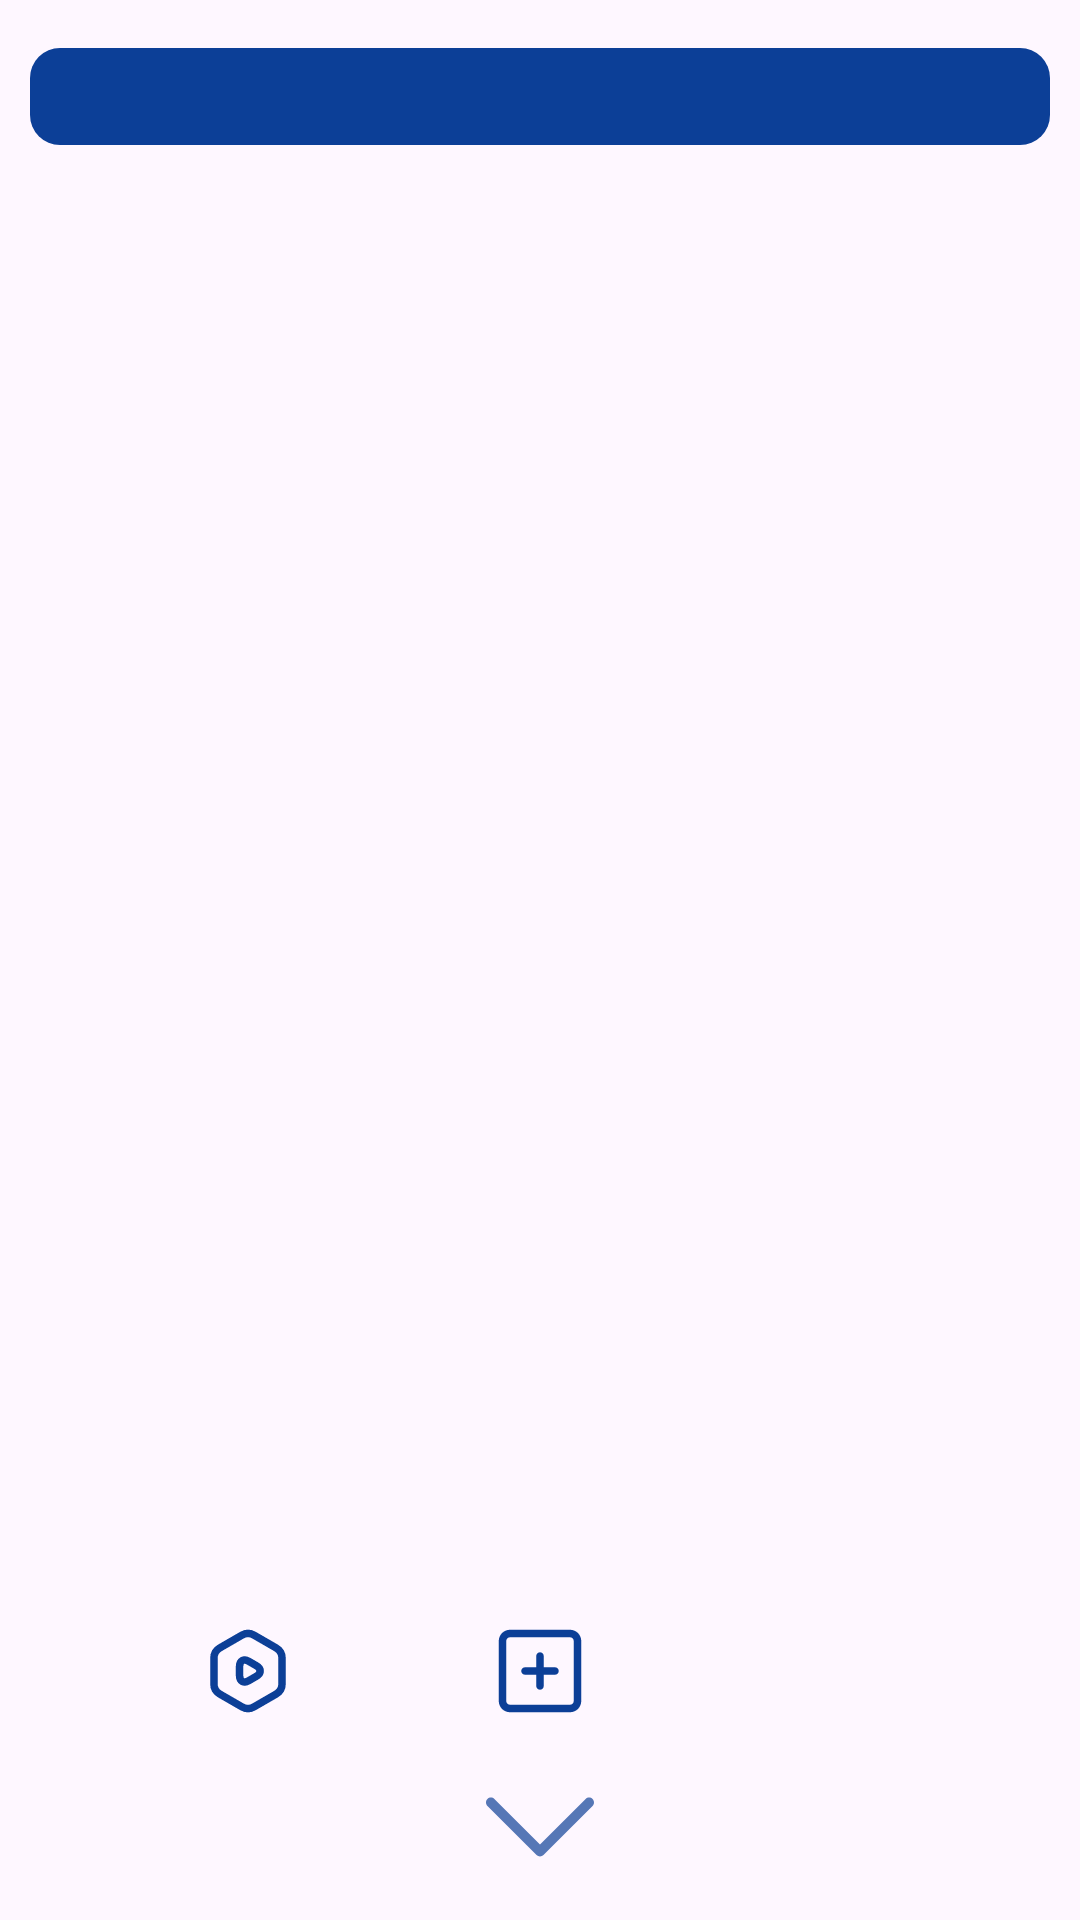

Where to tap for icons on this 1080 × 1920 app screen, as [x,y]:
Add to List: [540,1671]
down: [540,1827]
Play: [248,1671]
